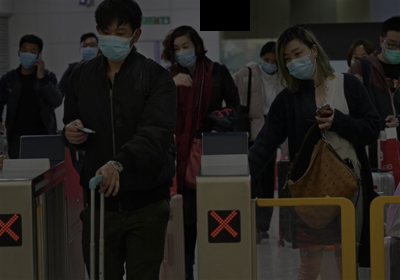with_mask: (98, 26, 132, 64), (285, 47, 316, 81), (172, 41, 198, 70), (19, 46, 40, 69), (384, 38, 400, 64), (82, 40, 99, 61), (261, 56, 280, 74)
